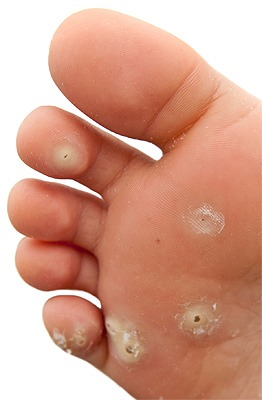Warts: (175, 188, 233, 245), (102, 317, 152, 368), (172, 297, 223, 345), (49, 322, 97, 360), (46, 135, 88, 178)
